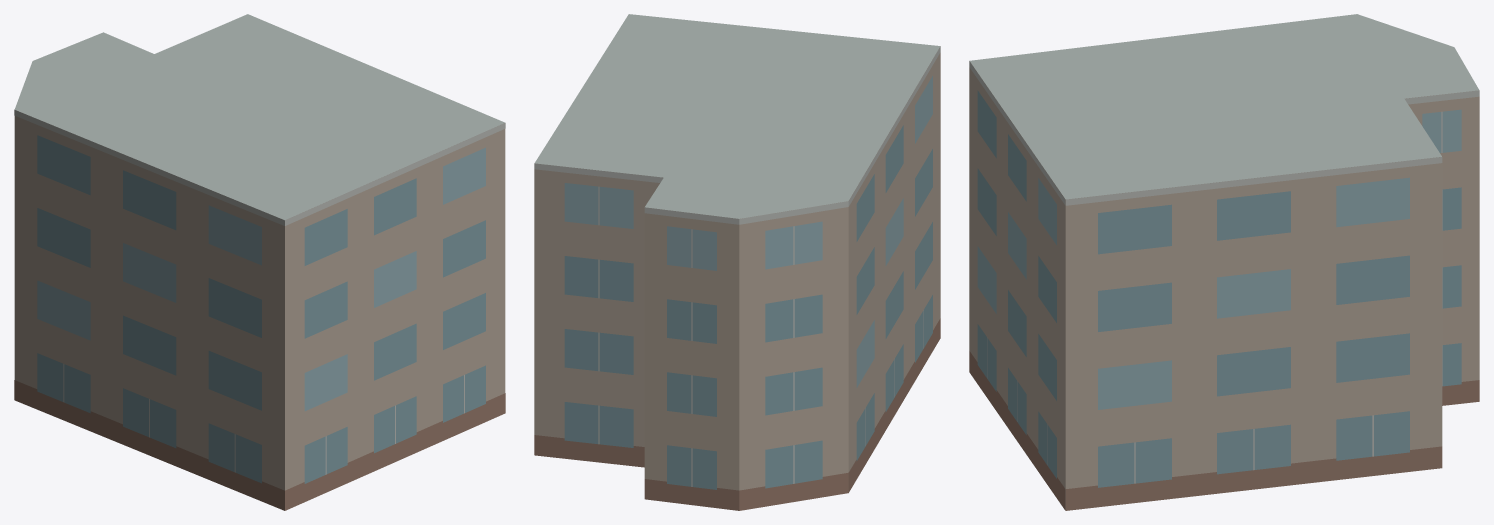
The model's file is survey-upis-32592772.glb.
3 views of the same model, side by side, from view 1: azimuth 30°, elevation 25°; view 2: azimuth 150°, elevation 25°; view 3: azimuth 270°, elevation 25° (orthographic). The views are drawn at different scales.
Visible parts, largest first — view 1: survey-upis-32592772.tmp; view 2: survey-upis-32592772.tmp; view 3: survey-upis-32592772.tmp.
Boxes of the visible parts, left/top/right/bottom form: survey-upis-32592772.tmp: left=14, top=14, right=505, bottom=510; survey-upis-32592772.tmp: left=534, top=14, right=940, bottom=510; survey-upis-32592772.tmp: left=969, top=14, right=1479, bottom=510.
Bounding box in the file's own units: 15.41 × 12.05 × 17.9.
